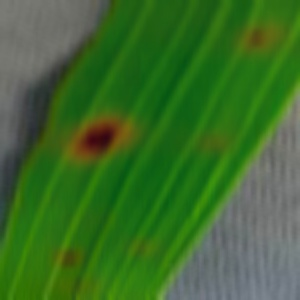Bacterial_Leaf_Blight: (63, 110, 138, 169), (103, 84, 134, 99), (58, 250, 85, 265), (247, 30, 268, 44), (130, 240, 151, 254), (69, 280, 87, 294), (206, 136, 225, 149)
